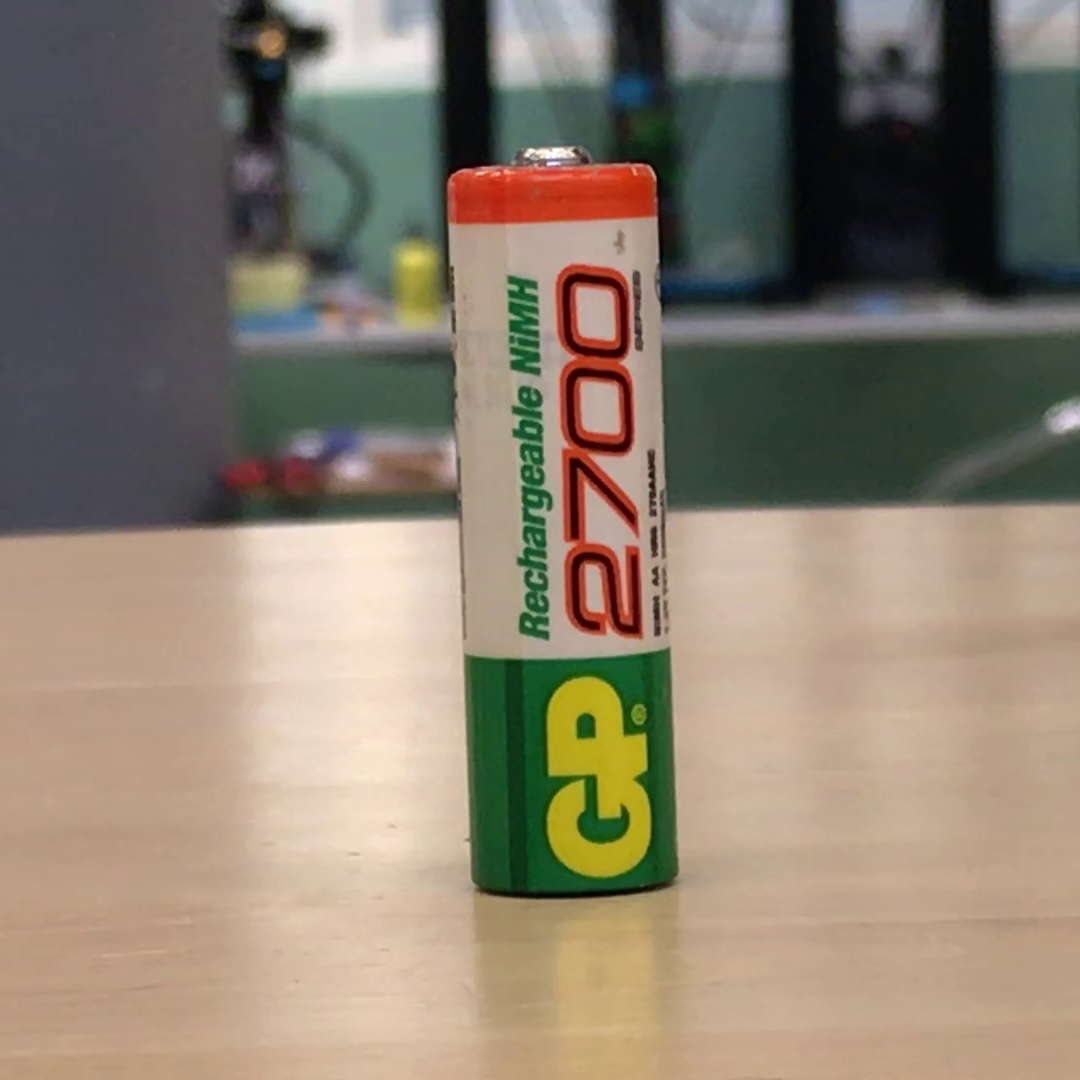keyword: (498, 266, 551, 386)
